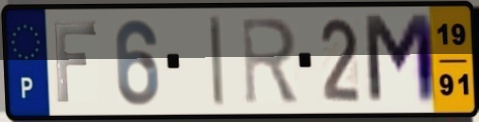2: (319, 15, 362, 105)
6: (112, 15, 162, 108)
F: (50, 20, 100, 105)
I: (206, 13, 227, 110)
M: (360, 12, 442, 109)
R: (239, 15, 302, 107)
